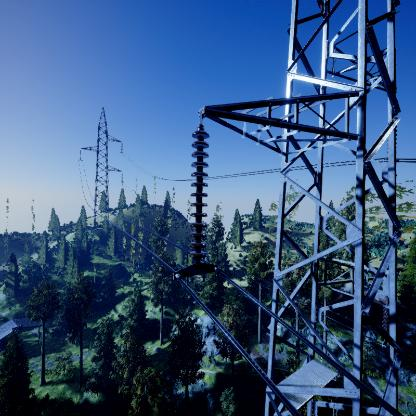insulator: (188, 130, 211, 262)
tower: (76, 104, 127, 239)
